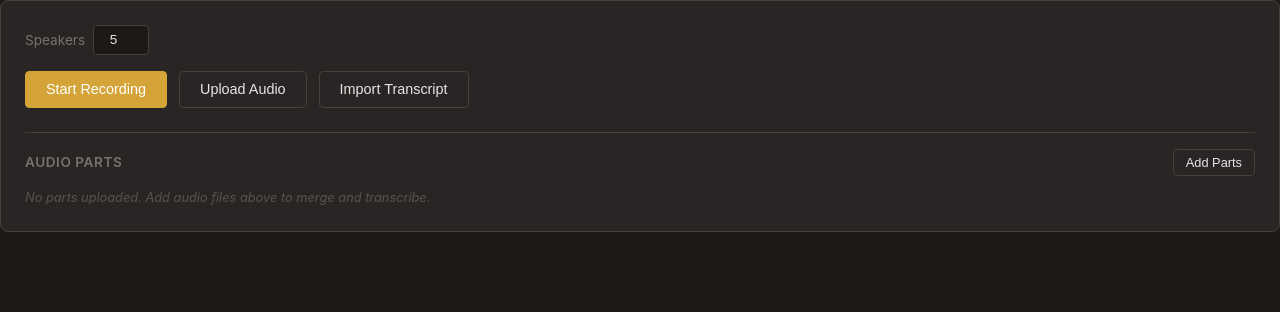
Test: RecordingControls › shows generic error when start recording fails with unknown error
What coordinates should you click on to do the following:
click the button "Start Recording"
I would click on:
 (96, 89)
Its box is [25,71,167,108].
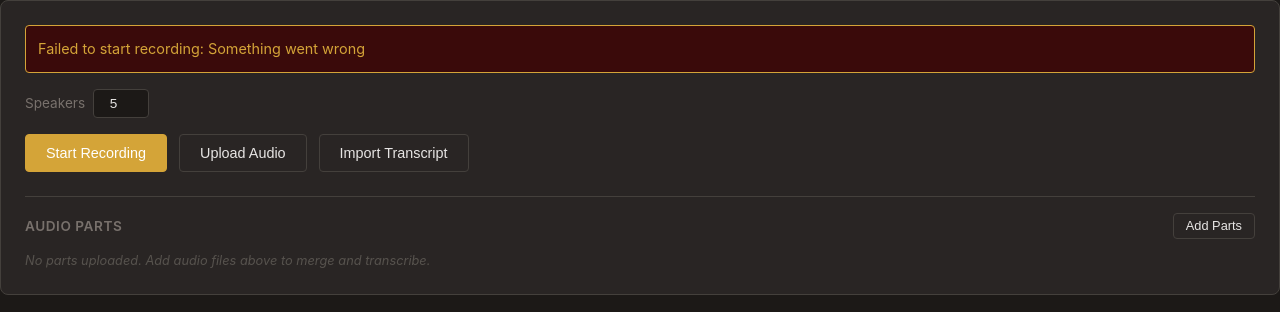
Check: the text "Failed to start recording: Something went wrong" is shown, box [25,25,1255,73]
